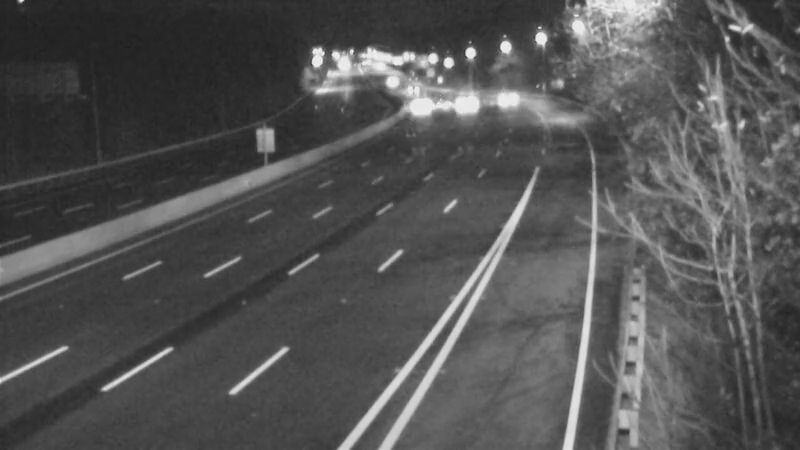vehicle: (367, 59, 417, 109), (380, 61, 430, 111), (477, 75, 527, 125), (438, 77, 488, 127), (416, 82, 466, 132), (391, 82, 441, 132)
